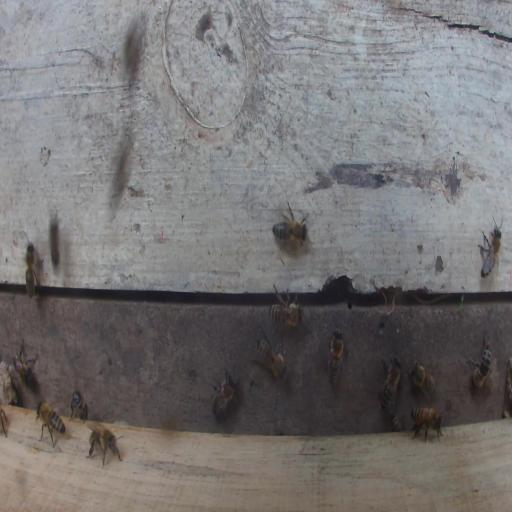bee: (85, 419, 125, 467), (254, 334, 289, 386), (266, 286, 302, 336), (270, 211, 308, 254), (36, 397, 67, 447), (10, 335, 39, 388), (379, 351, 403, 415), (327, 326, 351, 389), (465, 333, 492, 389), (211, 365, 240, 415), (410, 405, 446, 445), (478, 221, 502, 278), (407, 358, 438, 397), (24, 241, 41, 301), (69, 389, 89, 423), (389, 412, 407, 435)
